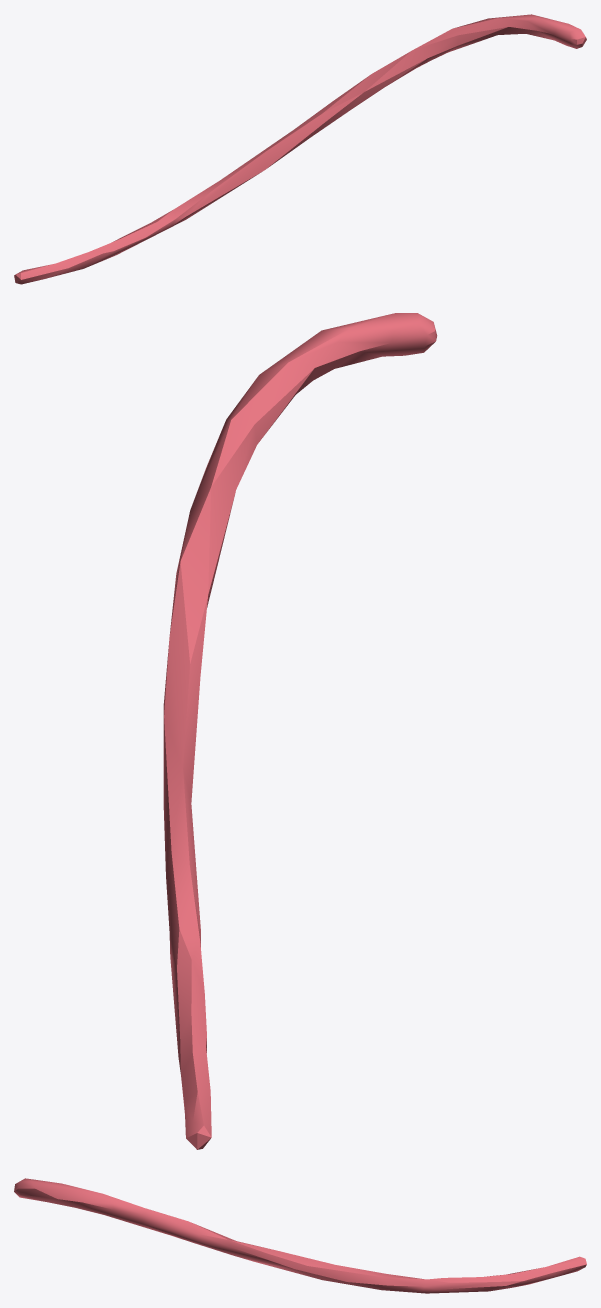
File: fma76193_fj5223.glb
3 views of the same model, one above another, from view 1: azimuth 90°, elevation 25°; view 2: azimuth 150°, elevation 25°; view 3: azimuth 270°, elevation 25° (orthographic). The views are drawn at different scales.
Parts seen in each view (by area): view 1: FMA76193_FJ5223; view 2: FMA76193_FJ5223; view 3: FMA76193_FJ5223.
Boxes of the visible parts, x1,y1,x2,y2 form: FMA76193_FJ5223: [14, 14, 586, 284]; FMA76193_FJ5223: [163, 313, 437, 1149]; FMA76193_FJ5223: [14, 1178, 586, 1293].
Bounding box in the file's own units: 0.00866 × 0.00689 × 0.0202.
